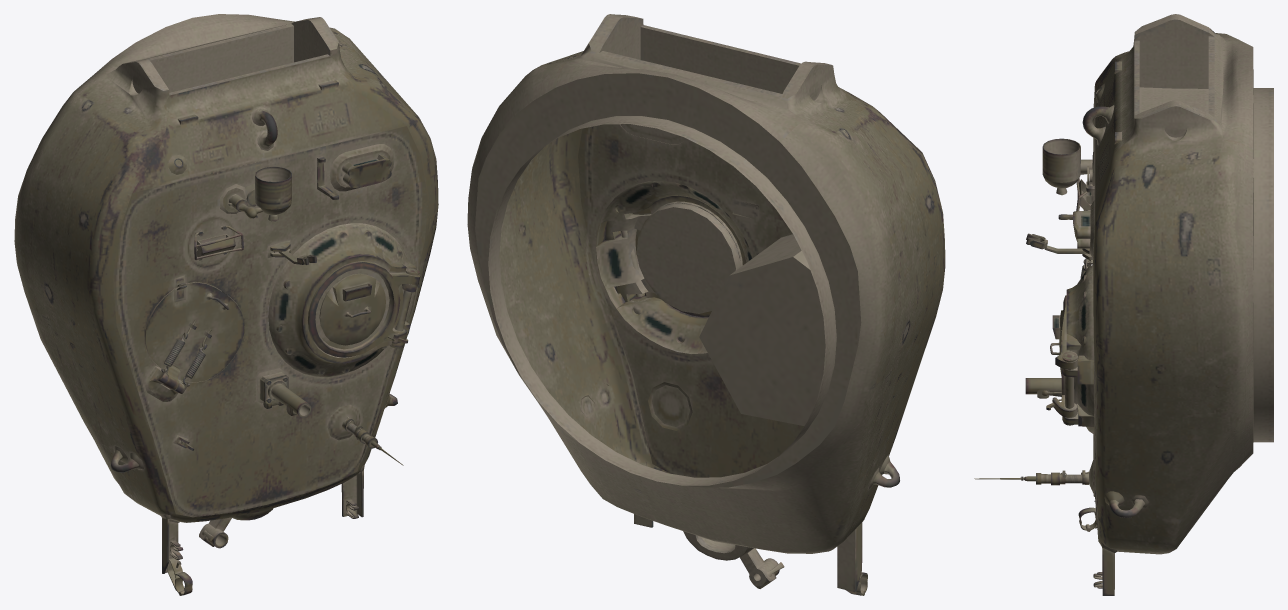
Rendered from Turret_01.glb.
3 views of the same model, side by side, from view 1: azimuth 30°, elevation 25°; view 2: azimuth 150°, elevation 25°; view 3: azimuth 270°, elevation 25° (orthographic). The views are drawn at different scales.
Parts seen in each view (by area): view 1: set_0_group_0; view 2: set_0_group_0; view 3: set_0_group_0.
Part boxes in pixels (<box>): set_0_group_0: <box>14,14,438,595</box>; set_0_group_0: <box>467,14,945,595</box>; set_0_group_0: <box>974,14,1273,595</box>.
Bounding box in the file's own units: 2.2 × 2.85 × 1.51.
1 material, 1 textured.
